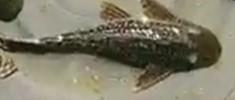Janitor Fish: (0, 0, 223, 92)
